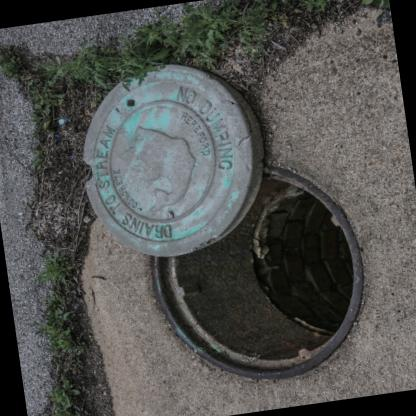manholes: (57, 35, 392, 416)
